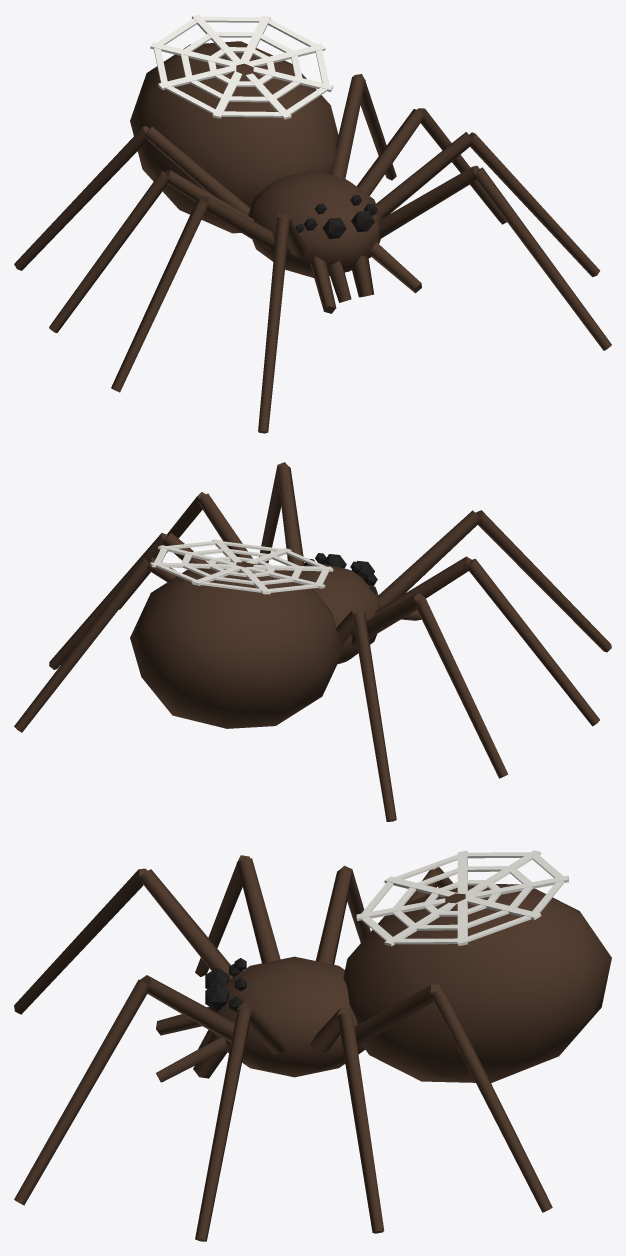
Rendered from spider_tisseuses.glb.
3 renders of one model, top to bottom at view 1: azimuth 30°, elevation 25°; view 2: azimuth 150°, elevation 25°; view 3: azimuth 270°, elevation 25°, orthographic. The views are drawn at different scales.
Visible parts, largest first — view 1: spider, gang_tattoo; view 2: spider, gang_tattoo; view 3: spider, gang_tattoo.
Boxes of the visible parts, x1=… form: spider: x1=14, y1=41, x2=611, y2=433; gang_tattoo: x1=150, y1=14, x2=333, y2=119; spider: x1=14, y1=462, x2=611, y2=821; gang_tattoo: x1=150, y1=539, x2=333, y2=594; spider: x1=14, y1=855, x2=611, y2=1241; gang_tattoo: x1=356, y1=850, x2=568, y2=946.
Bounding box in the file's own units: 2.75 × 1.09 × 2.56.
